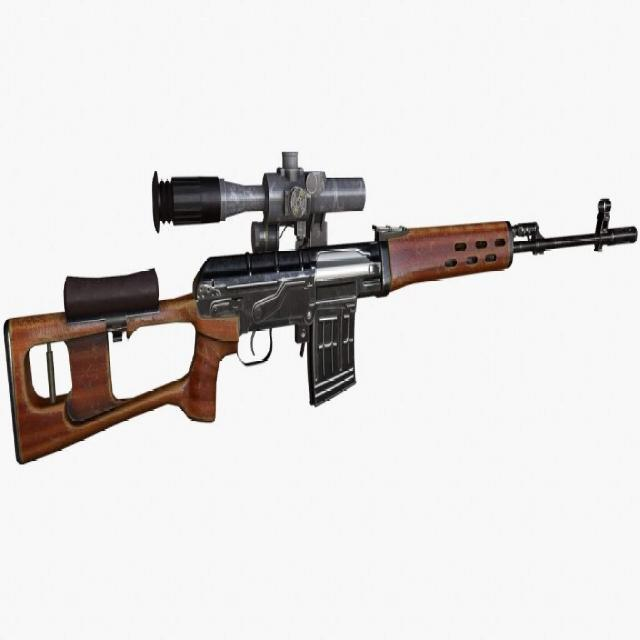rifle: (0, 124, 640, 476)
